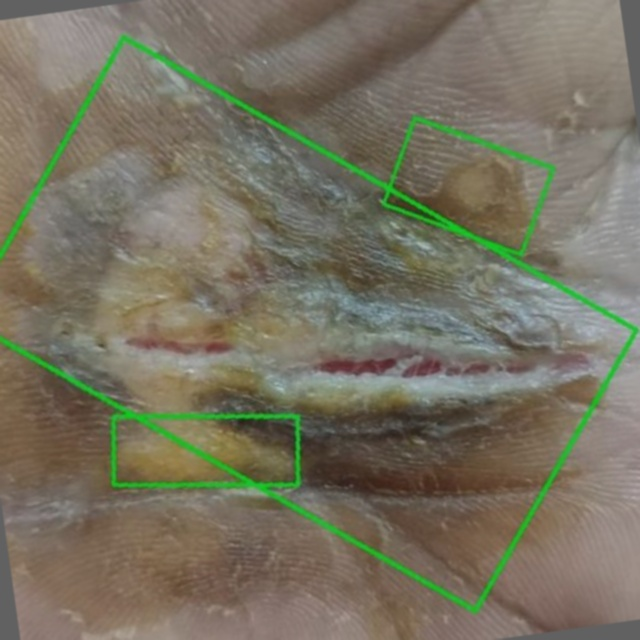Eczema: (0, 38, 635, 611), (383, 119, 552, 255), (113, 416, 297, 485)
